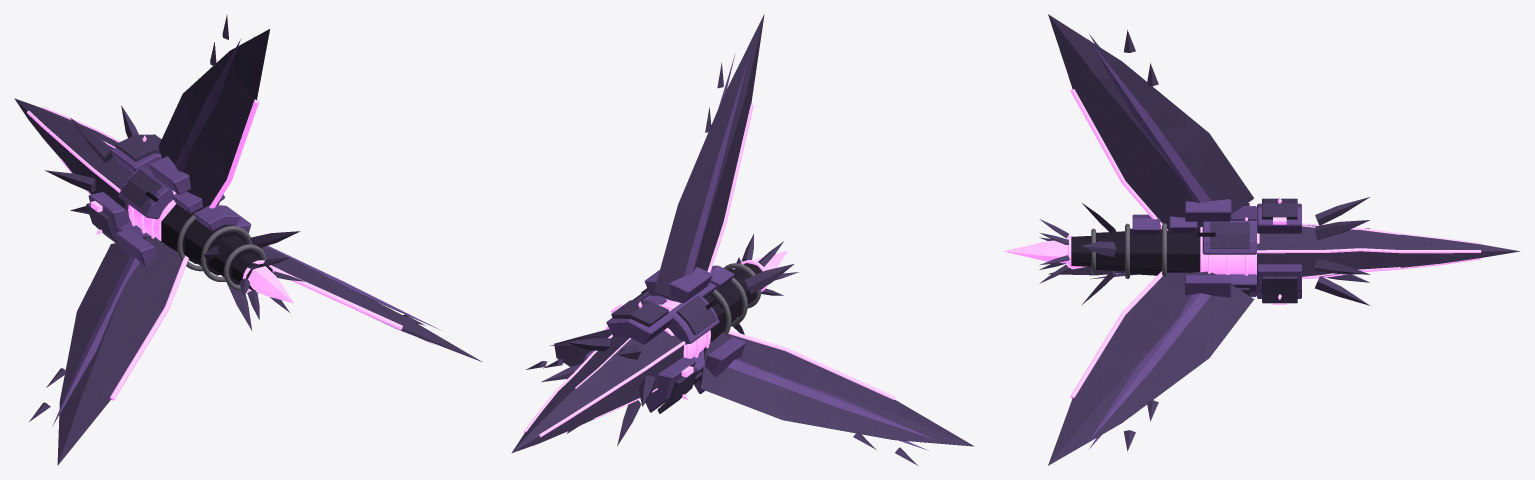
Rendered from shardling.glb.
3 views of the same model, side by side, from view 1: azimuth 30°, elevation 25°; view 2: azimuth 150°, elevation 25°; view 3: azimuth 270°, elevation 25° (orthographic). The views are drawn at different scales.
Visible parts, largest first — view 1: Shardling.001; view 2: Shardling.001; view 3: Shardling.001.
Part boxes in pixels (x1,y1,x2,y2): Shardling.001: (14,15,481,465); Shardling.001: (511,14,974,465); Shardling.001: (1003,14,1519,465).
Size of the model in its own units: 5.44 by 4.71 by 6.21.
Materials: 6 (6 with a texture image).
